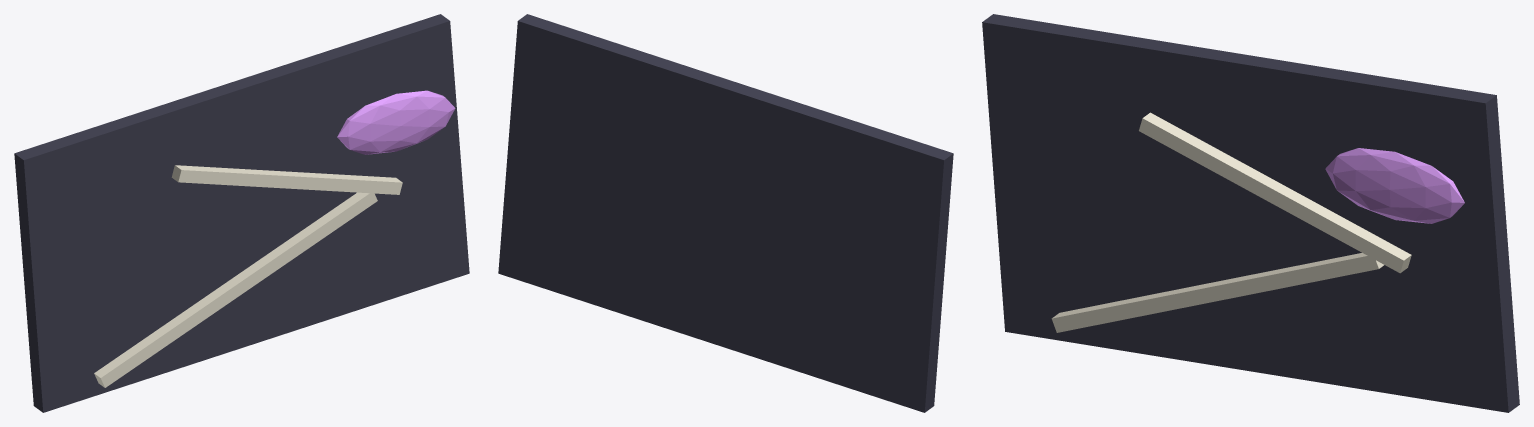
The model's file is 02_weathering_wear_overlay_2.glb.
3 renders of one model, left to right at view 1: azimuth 30°, elevation 25°; view 2: azimuth 150°, elevation 25°; view 3: azimuth 330°, elevation 25°, orthographic. The views are drawn at different scales.
Visible parts, largest first — view 1: wear_plate, scratch_a, rust_or_moss_spot, scratch_b; view 2: wear_plate; view 3: wear_plate, rust_or_moss_spot, scratch_b, scratch_a.
Boxes of the visible parts, bbox=[...] form: wear_plate: bbox=[14, 14, 469, 412]; scratch_a: bbox=[94, 192, 377, 387]; rust_or_moss_spot: bbox=[337, 90, 455, 154]; scratch_b: bbox=[171, 165, 402, 194]; wear_plate: bbox=[498, 14, 953, 412]; wear_plate: bbox=[982, 14, 1519, 412]; rust_or_moss_spot: bbox=[1325, 148, 1464, 223]; scratch_b: bbox=[1139, 112, 1411, 273]; scratch_a: bbox=[1051, 253, 1383, 332].
Bounding box in the file's own units: 1.36 × 0.8503 × 0.134.
